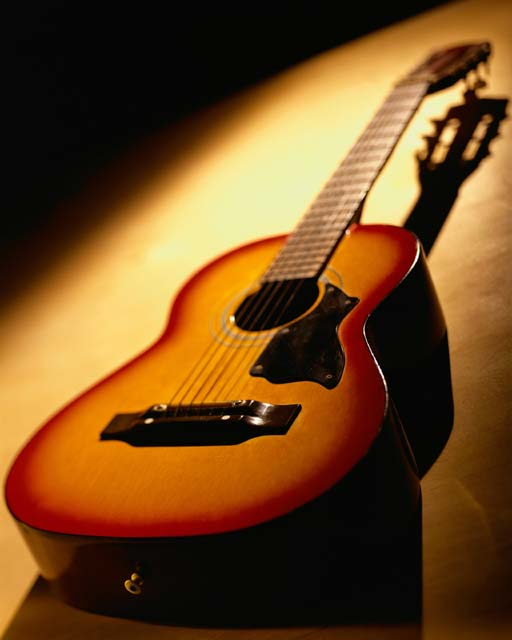guitar: (3, 38, 495, 624)
